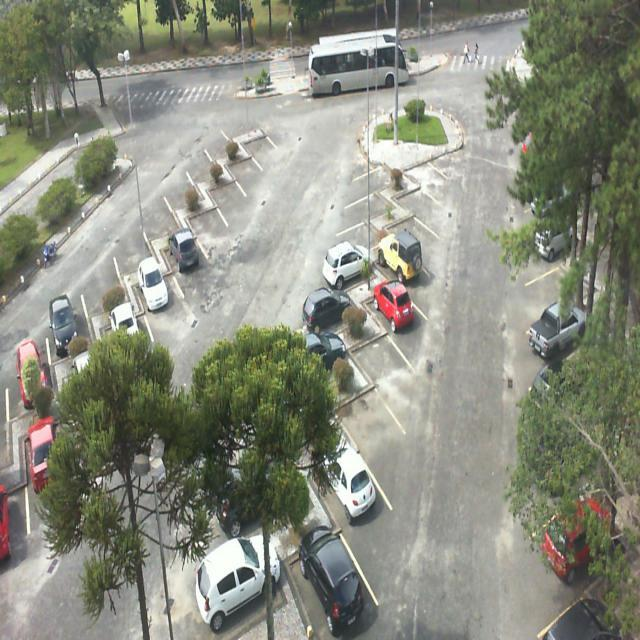space-empty: (333, 380, 400, 480), (350, 326, 412, 407), (75, 235, 124, 313), (108, 206, 152, 279), (319, 210, 376, 256), (384, 202, 434, 253), (181, 190, 222, 252), (137, 186, 178, 244), (395, 176, 443, 222), (342, 182, 392, 223), (405, 155, 451, 198), (207, 168, 246, 218), (162, 159, 198, 213), (222, 138, 260, 188), (201, 115, 237, 166), (345, 154, 393, 192), (183, 138, 218, 188), (241, 120, 274, 169)
space-occupied: (189, 524, 282, 632), (289, 507, 364, 630), (315, 449, 392, 559), (357, 278, 416, 346), (43, 278, 89, 362), (291, 284, 354, 344), (374, 236, 430, 296), (131, 259, 176, 333), (317, 240, 372, 290), (161, 222, 200, 288)
